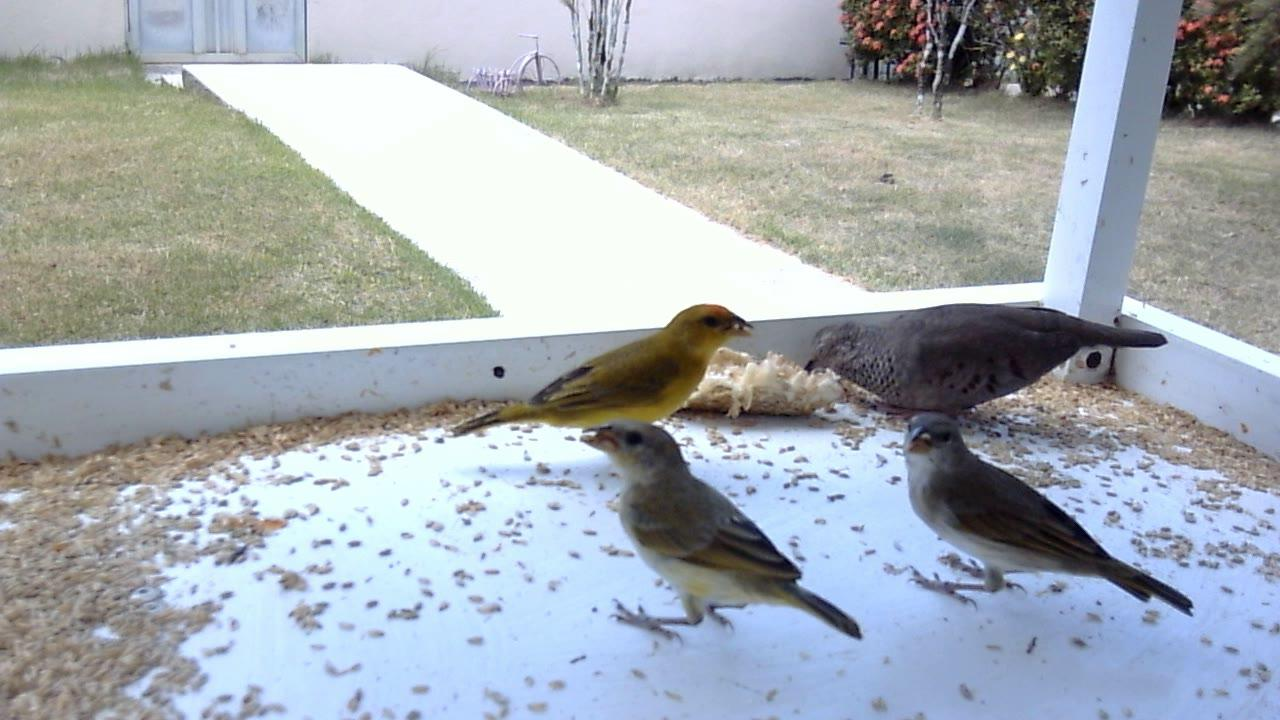canario_do_amazonas: (580, 419, 866, 650), (903, 411, 1198, 623), (450, 301, 759, 445)
rolinha: (804, 302, 1171, 425)
